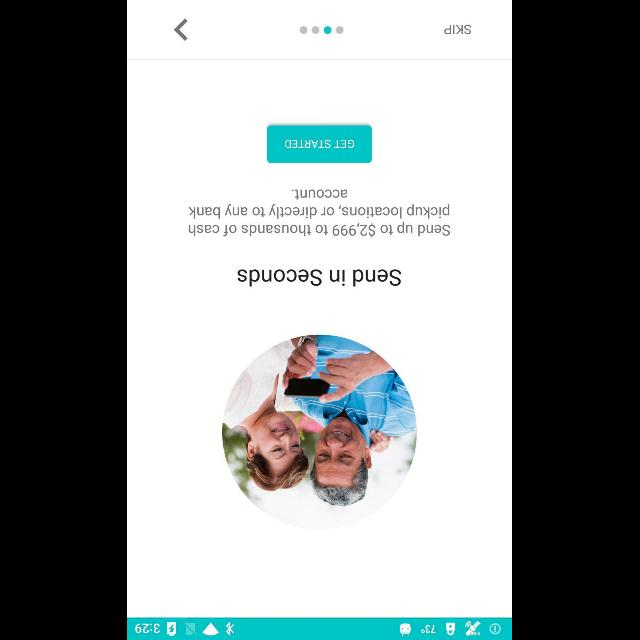icon: (174, 18, 188, 42)
image: (222, 334, 418, 530)
pageindicator: (300, 26, 344, 34)
text: (189, 190, 451, 237), (238, 269, 402, 287), (444, 25, 472, 35)
textbutton: (268, 126, 372, 162)
uppertaskbar: (128, 617, 512, 639)
